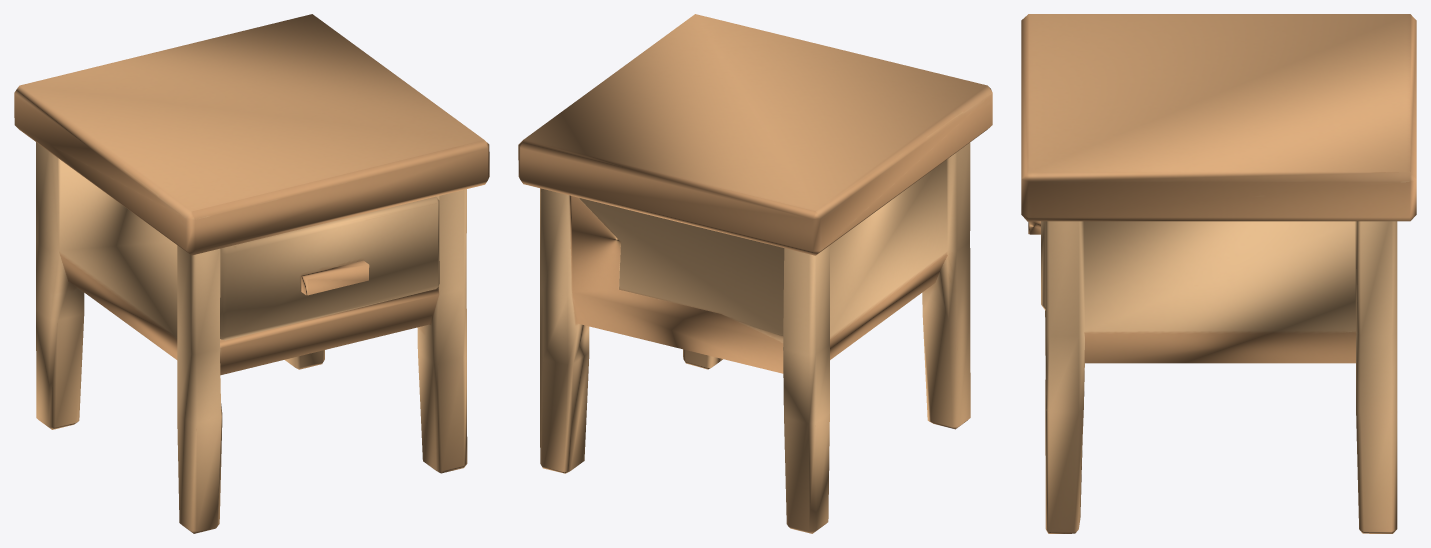
Rendered from bedside_table.fbx.
3 views of the same model, side by side, from view 1: azimuth 30°, elevation 25°; view 2: azimuth 150°, elevation 25°; view 3: azimuth 270°, elevation 25° (orthographic). The views are drawn at different scales.
Parts seen in each view (by area): view 1: Mesh_0; view 2: Mesh_0; view 3: Mesh_0.
Part boxes in pixels (x1,y1,x2,y2): Mesh_0: (14,14,489,533); Mesh_0: (518,14,992,533); Mesh_0: (1021,14,1416,533).
Bounding box in the file's own units: 90.97 × 95.17 × 92.72.
1 material, 1 textured.
